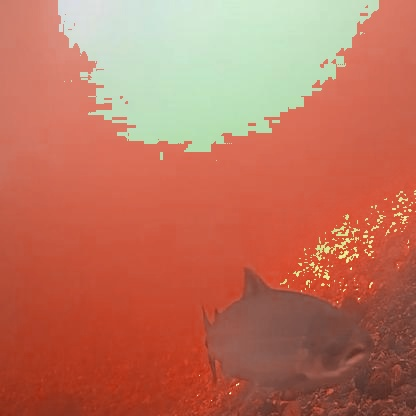salmon: (197, 262, 377, 396)
